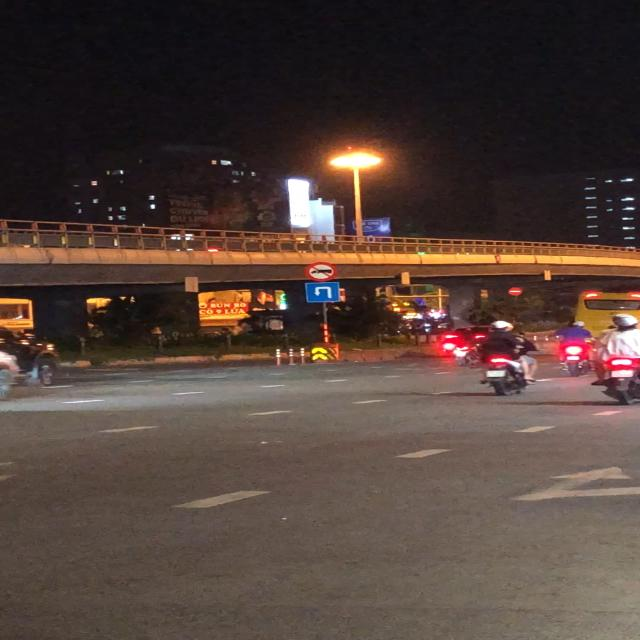Bien bao cam xe so-mi ro-mooc: (303, 261, 337, 283)
